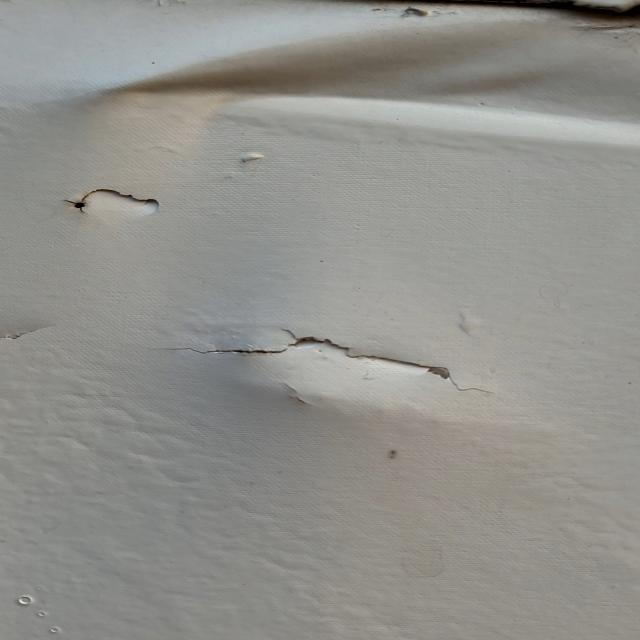Dents or Deformation: (103, 9, 640, 145)
Scratches: (149, 318, 486, 392), (66, 186, 200, 223), (1, 308, 64, 355)
